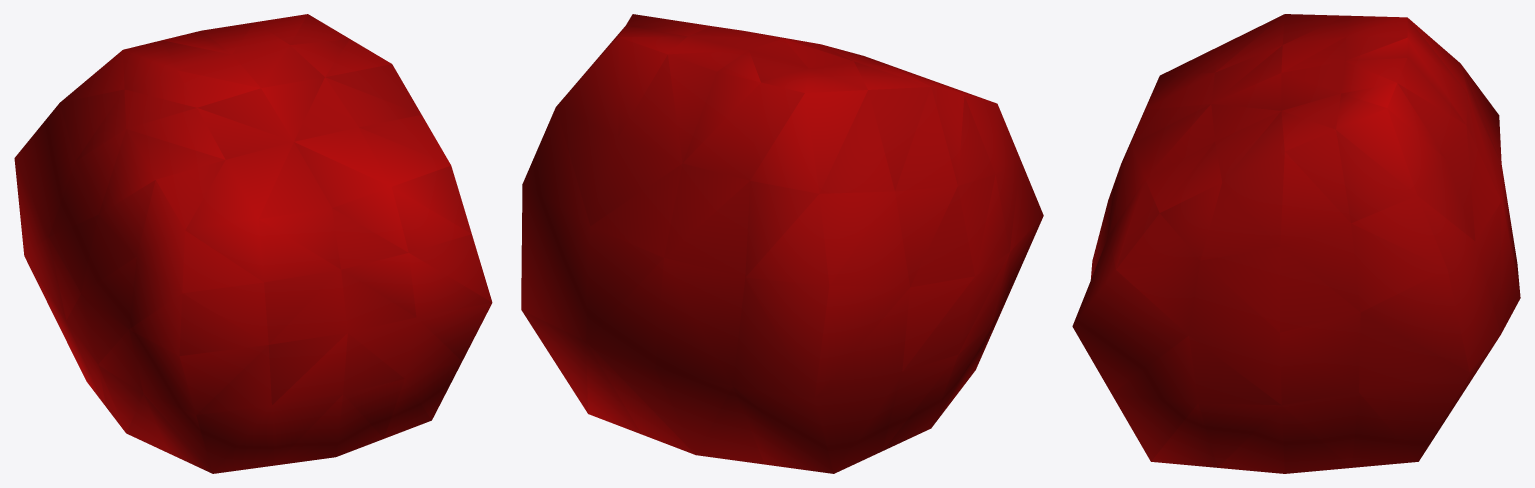
File: geology-pebbles-sandchunk_v6.fbx
3 renders of one model, left to right at view 1: azimuth 30°, elevation 25°; view 2: azimuth 150°, elevation 25°; view 3: azimuth 270°, elevation 25°, orthographic. The views are drawn at different scales.
Visible parts, largest first — view 1: SandChunk_v6; view 2: SandChunk_v6; view 3: SandChunk_v6.
Part boxes in pixels (box(x1,y1,x2,y2)): SandChunk_v6: box(14, 14, 492, 473); SandChunk_v6: box(521, 14, 1043, 473); SandChunk_v6: box(1072, 14, 1520, 473).
Size of the model in its own units: 5.69 by 5.86 by 6.13.
